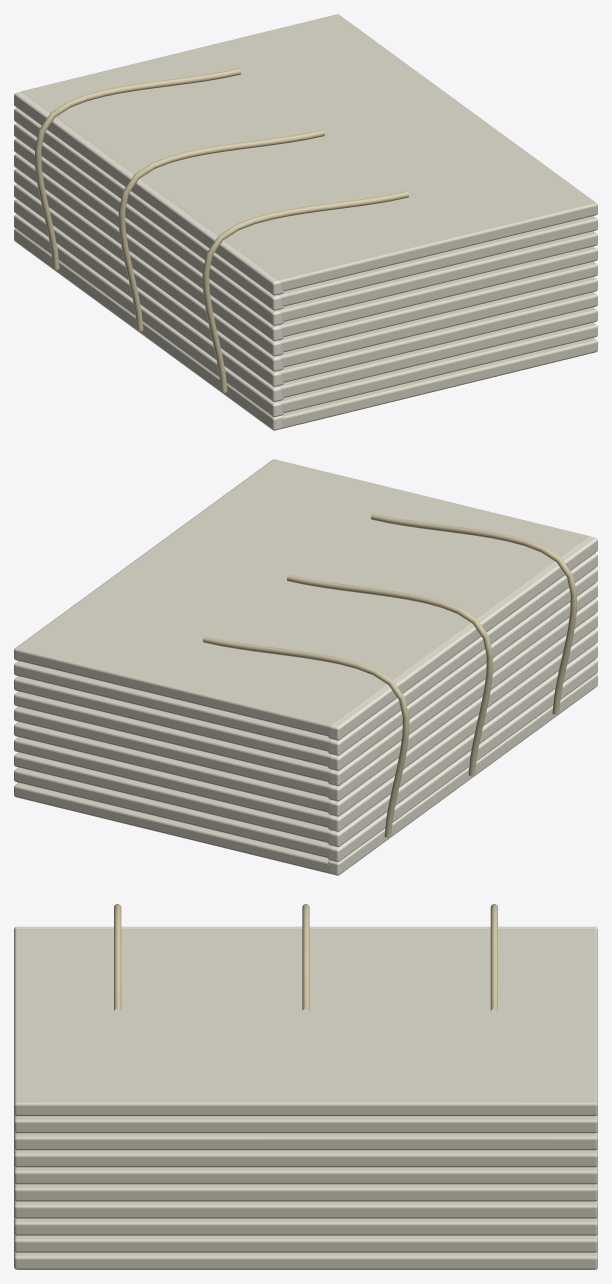
The model's file is bookbinding-and-paper-mill-sewn-text-block-a0a2c4f6__30585.glb.
The picture shows the model from 3 angles, top to bottom: view 1: azimuth 30°, elevation 25°; view 2: azimuth 150°, elevation 25°; view 3: azimuth 270°, elevation 25°; orthographic projection. The views are drawn at different scales.
Visible parts, largest first — view 1: sewn-text-block; view 2: sewn-text-block; view 3: sewn-text-block.
Boxes of the visible parts, box(x1,y1,x2,y2) form: sewn-text-block: box(14, 14, 597, 430); sewn-text-block: box(14, 459, 597, 875); sewn-text-block: box(14, 904, 597, 1269).
Bounding box in the file's own units: 0.2404 × 0.1143 × 0.31.
